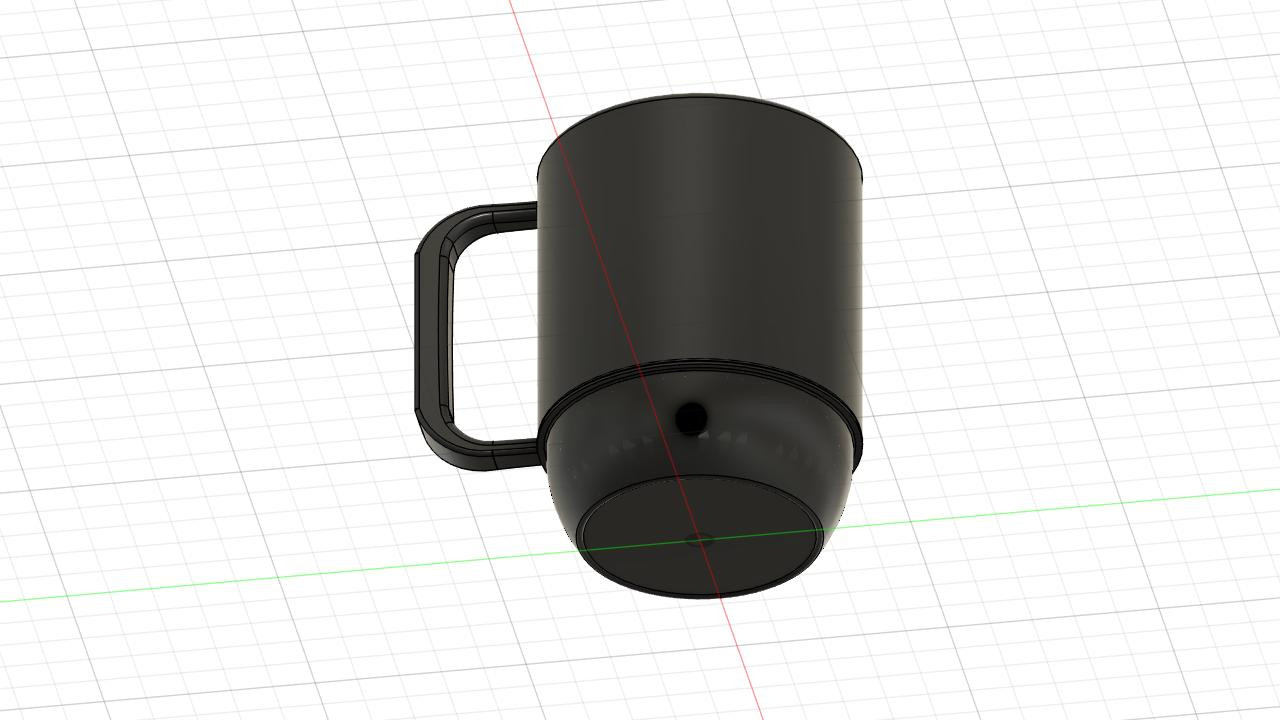mug-real100-3d100: (415, 95, 863, 598)
